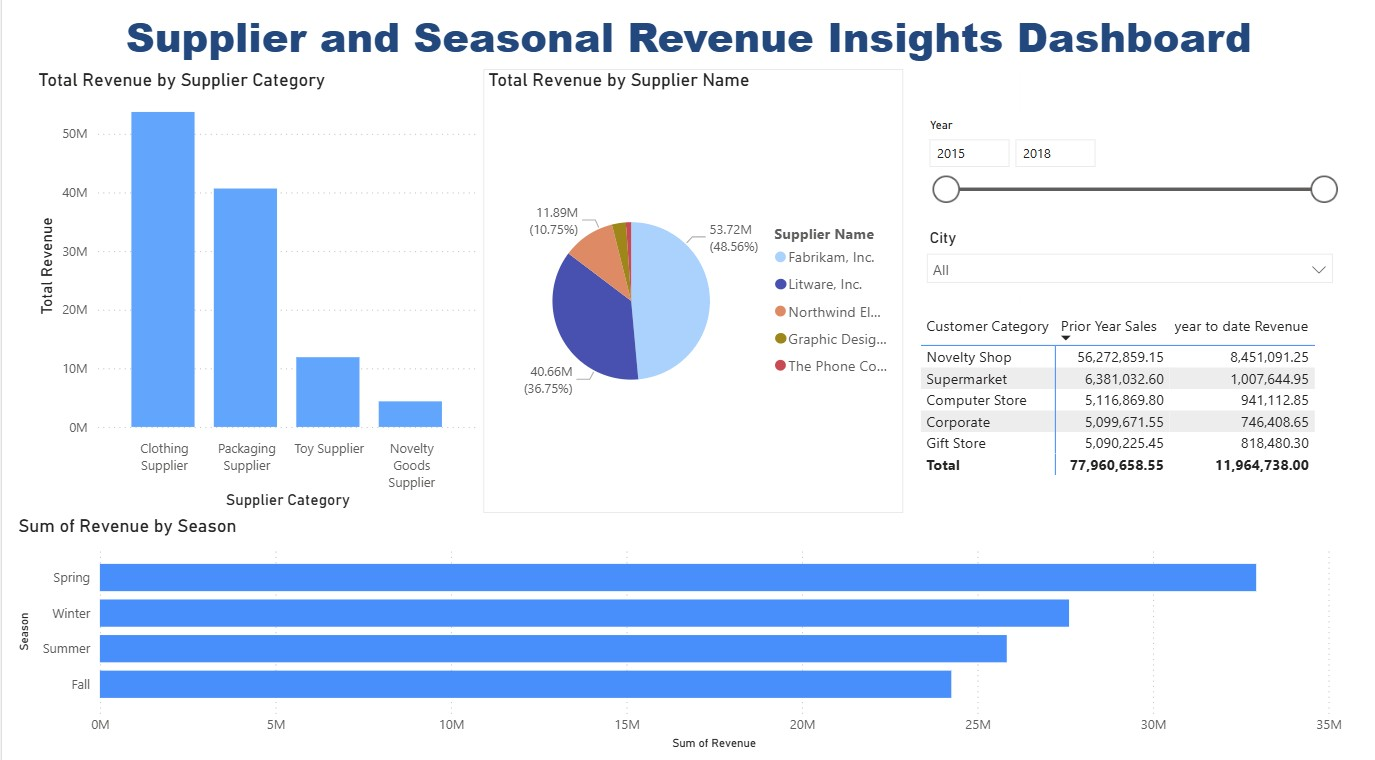

The dashboard page shown, as its layout file describes it:
{"tool":"powerbi","page":{"name":"Page 1","canvas":[1280,720],"ordinal":0},"visuals":[{"type":"textbox","box":[946,0,334,713],"z":0},{"type":"slicer","fields":{"Values":["DimDate.Date.Variation.Date Hierarchy.Year"]},"box":[850,115.1,401.2,107],"z":1000},{"type":"pivotTable","fields":{"Rows":["Dimensional_Supplier_Category.Supplier Category","Dimensional_Customer_Category.Customer Category"],"Values":["Fact_Revenue.Prior Year Sales","Fact_Revenue.YTD Revenue"]},"box":[850,297.7,430.2,189.5],"z":2000},{"type":"pieChart","fields":{"Y":["Fact_Revenue.Total Revenue"],"Category":["Dimensional_Supplier_Name.Supplier Name"]},"box":[447.7,74.4,390.7,412.8],"z":3000},{"type":"columnChart","fields":{"Category":["Dimensional_Supplier_Category.Supplier Category"],"Y":["Fact_Revenue.Total Revenue"]},"box":[29.1,74.4,418.6,414],"z":4000},{"type":"slicer","fields":{"Values":["Fact_Revenue.City"]},"box":[850,217.4,397.7,64],"z":5000},{"type":"barChart","fields":{"Category":["Dimensional_Date.Season"],"Y":["Sum(Fact_Revenue.Revenue)"]},"box":[10.5,489.5,1240.7,223.3],"z":6000},{"type":"textbox","box":[10.5,12.8,1237.2,61.6],"z":7000}]}

Visuals, with their boxes in screenshot pixels (x1, y1, x2, y2), scaled from the page's 1280x720 canvas onto the 1375x760 screenshot:
textbox: BBox(1016, 0, 1374, 753)
slicer - DimDate.Date.Variation.Date Hierarchy.Year: BBox(913, 121, 1344, 234)
pivotTable - Dimensional_Supplier_Category.Supplier Category x Dimensional_Customer_Category.Customer Category: BBox(913, 314, 1374, 514)
pieChart - Fact_Revenue.Total Revenue x Dimensional_Supplier_Name.Supplier Name: BBox(481, 79, 901, 514)
columnChart - Dimensional_Supplier_Category.Supplier Category x Fact_Revenue.Total Revenue: BBox(31, 79, 481, 516)
slicer - Fact_Revenue.City: BBox(913, 229, 1340, 297)
barChart - Dimensional_Date.Season x Sum(Fact_Revenue.Revenue): BBox(11, 517, 1344, 752)
textbox: BBox(11, 14, 1340, 79)
